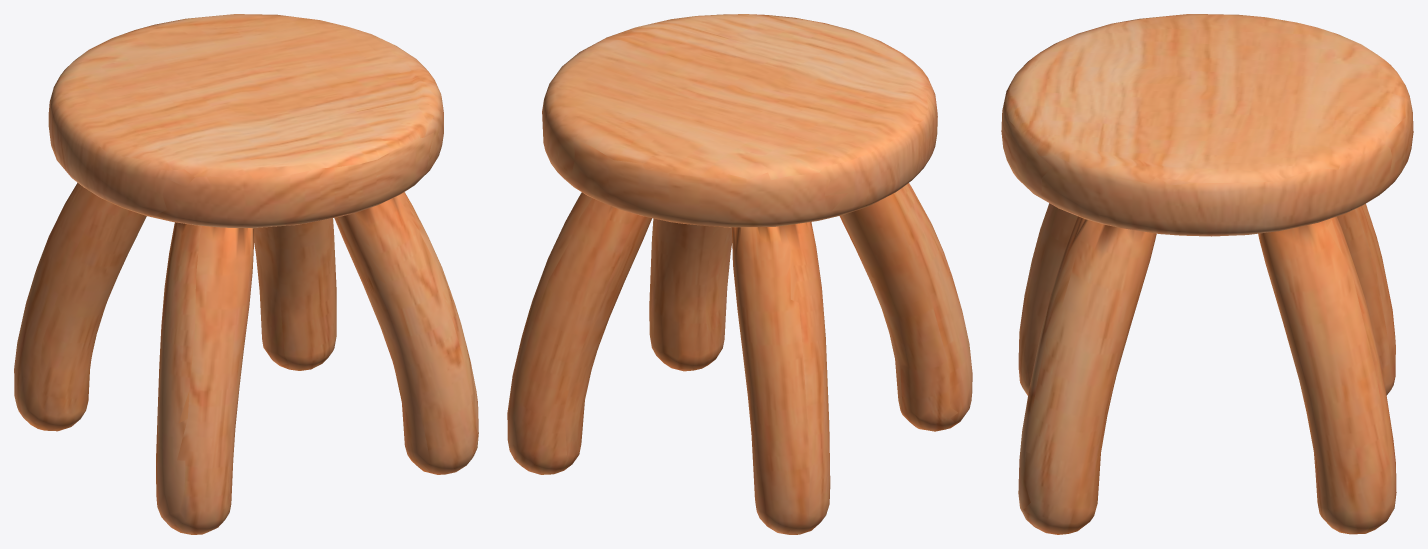
File: stool.glb
3 renders of one model, left to right at view 1: azimuth 30°, elevation 25°; view 2: azimuth 150°, elevation 25°; view 3: azimuth 270°, elevation 25°, orthographic. The views are drawn at different scales.
Visible parts, largest first — view 1: stool; view 2: stool; view 3: stool.
Part boxes in pixels (box(x1,y1,x2,y2)): stool: box(14, 14, 478, 534); stool: box(507, 14, 972, 534); stool: box(1001, 14, 1413, 534).
Size of the model in its own units: 0.9964 by 1 by 0.9978.
Materials: 1 (1 with a texture image).
